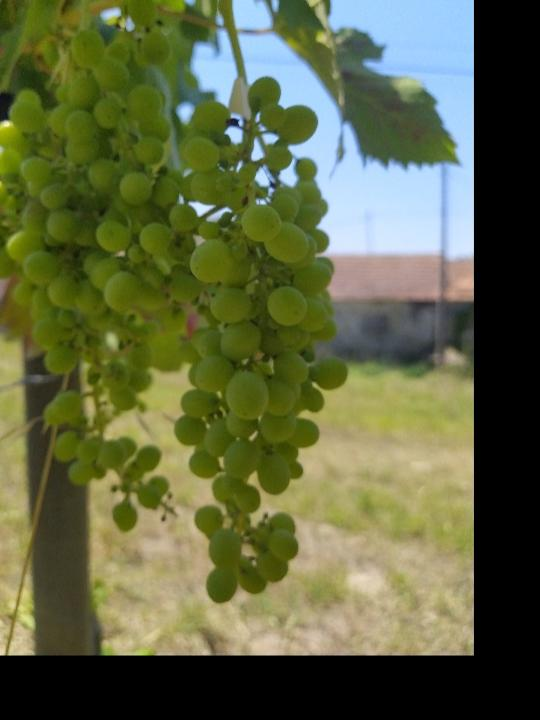grape: (0, 0, 186, 535), (172, 75, 350, 609)
